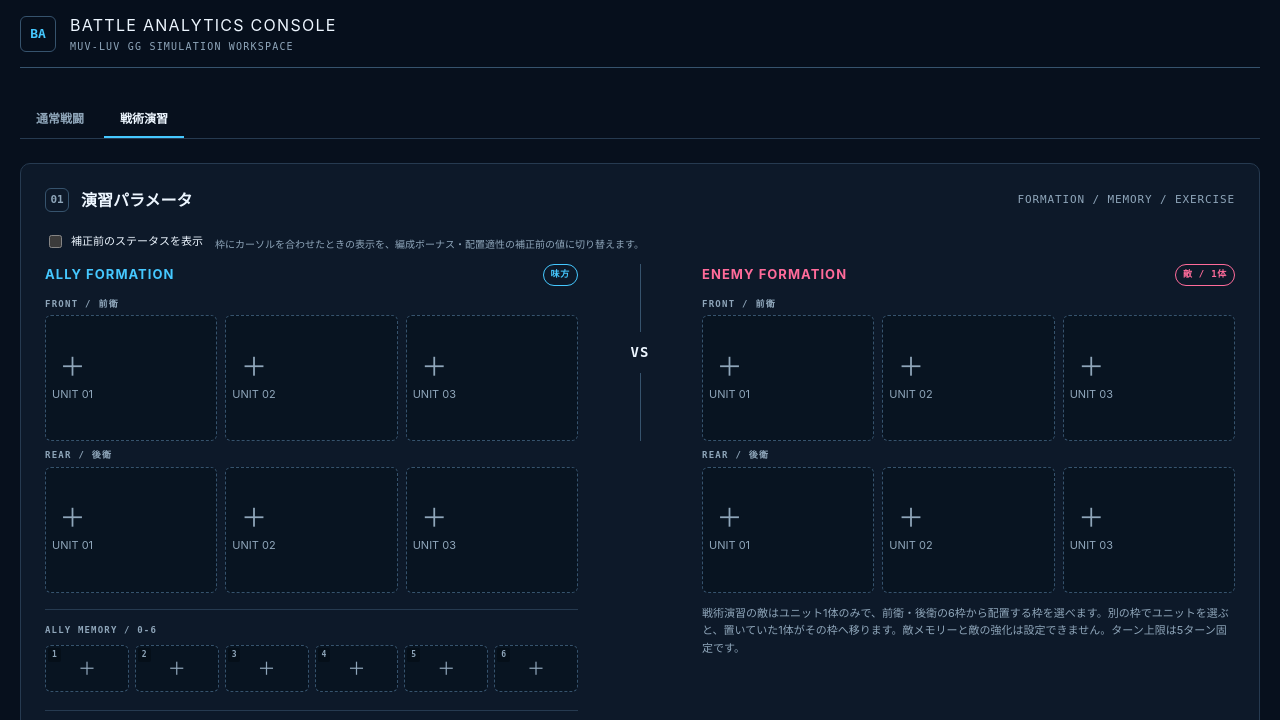
Test: BattleSimulatorPage — restored draft with a mismatched pool (UI-CT-056) › blocks the battle submission when a restored slot holds an exercise-only unit
Expected: the heading "ALLY FORMATION" is shown, [45,265,174,284]
Click the tab "通常戦闘" at [60, 120], box [20,102,100,138]
(page scrolled)
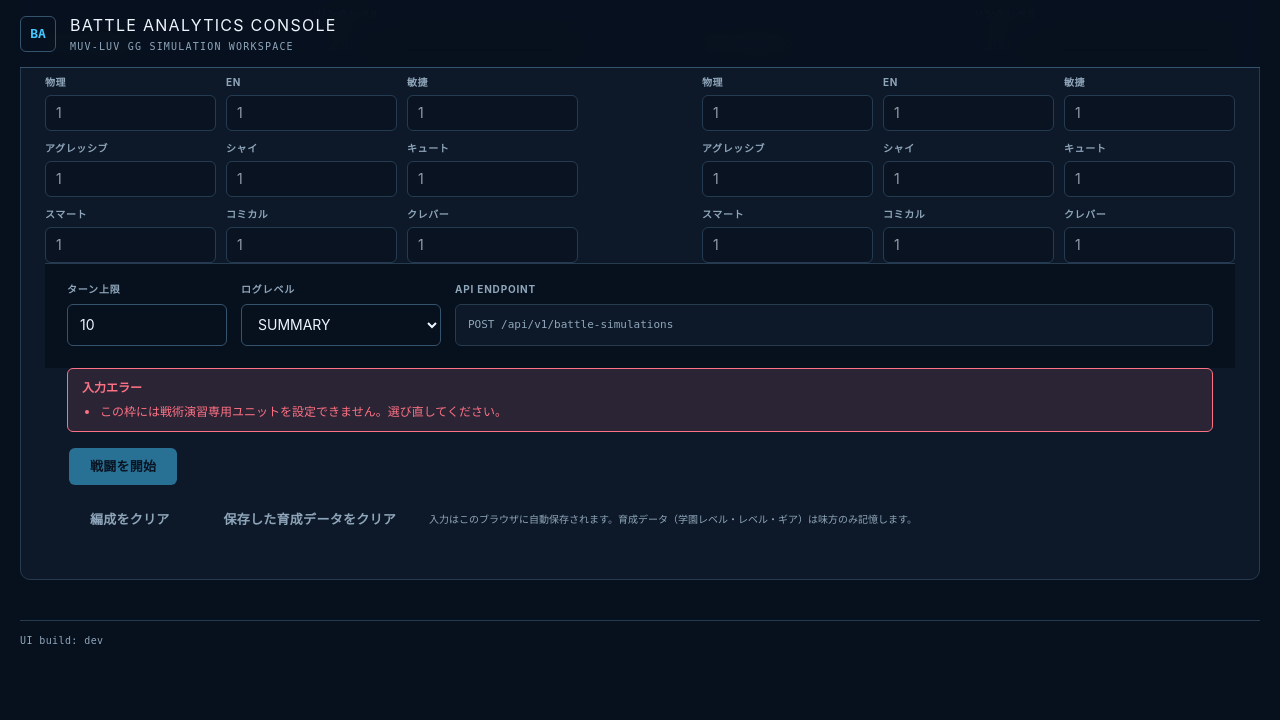
Expected: the button "戦闘を開始" is disabled, [69,448,177,485]
Expected: the list item "この枠には戦術演習専用ユニットを設定できません。選び直してください。" is shown, [100,404,507,419]
